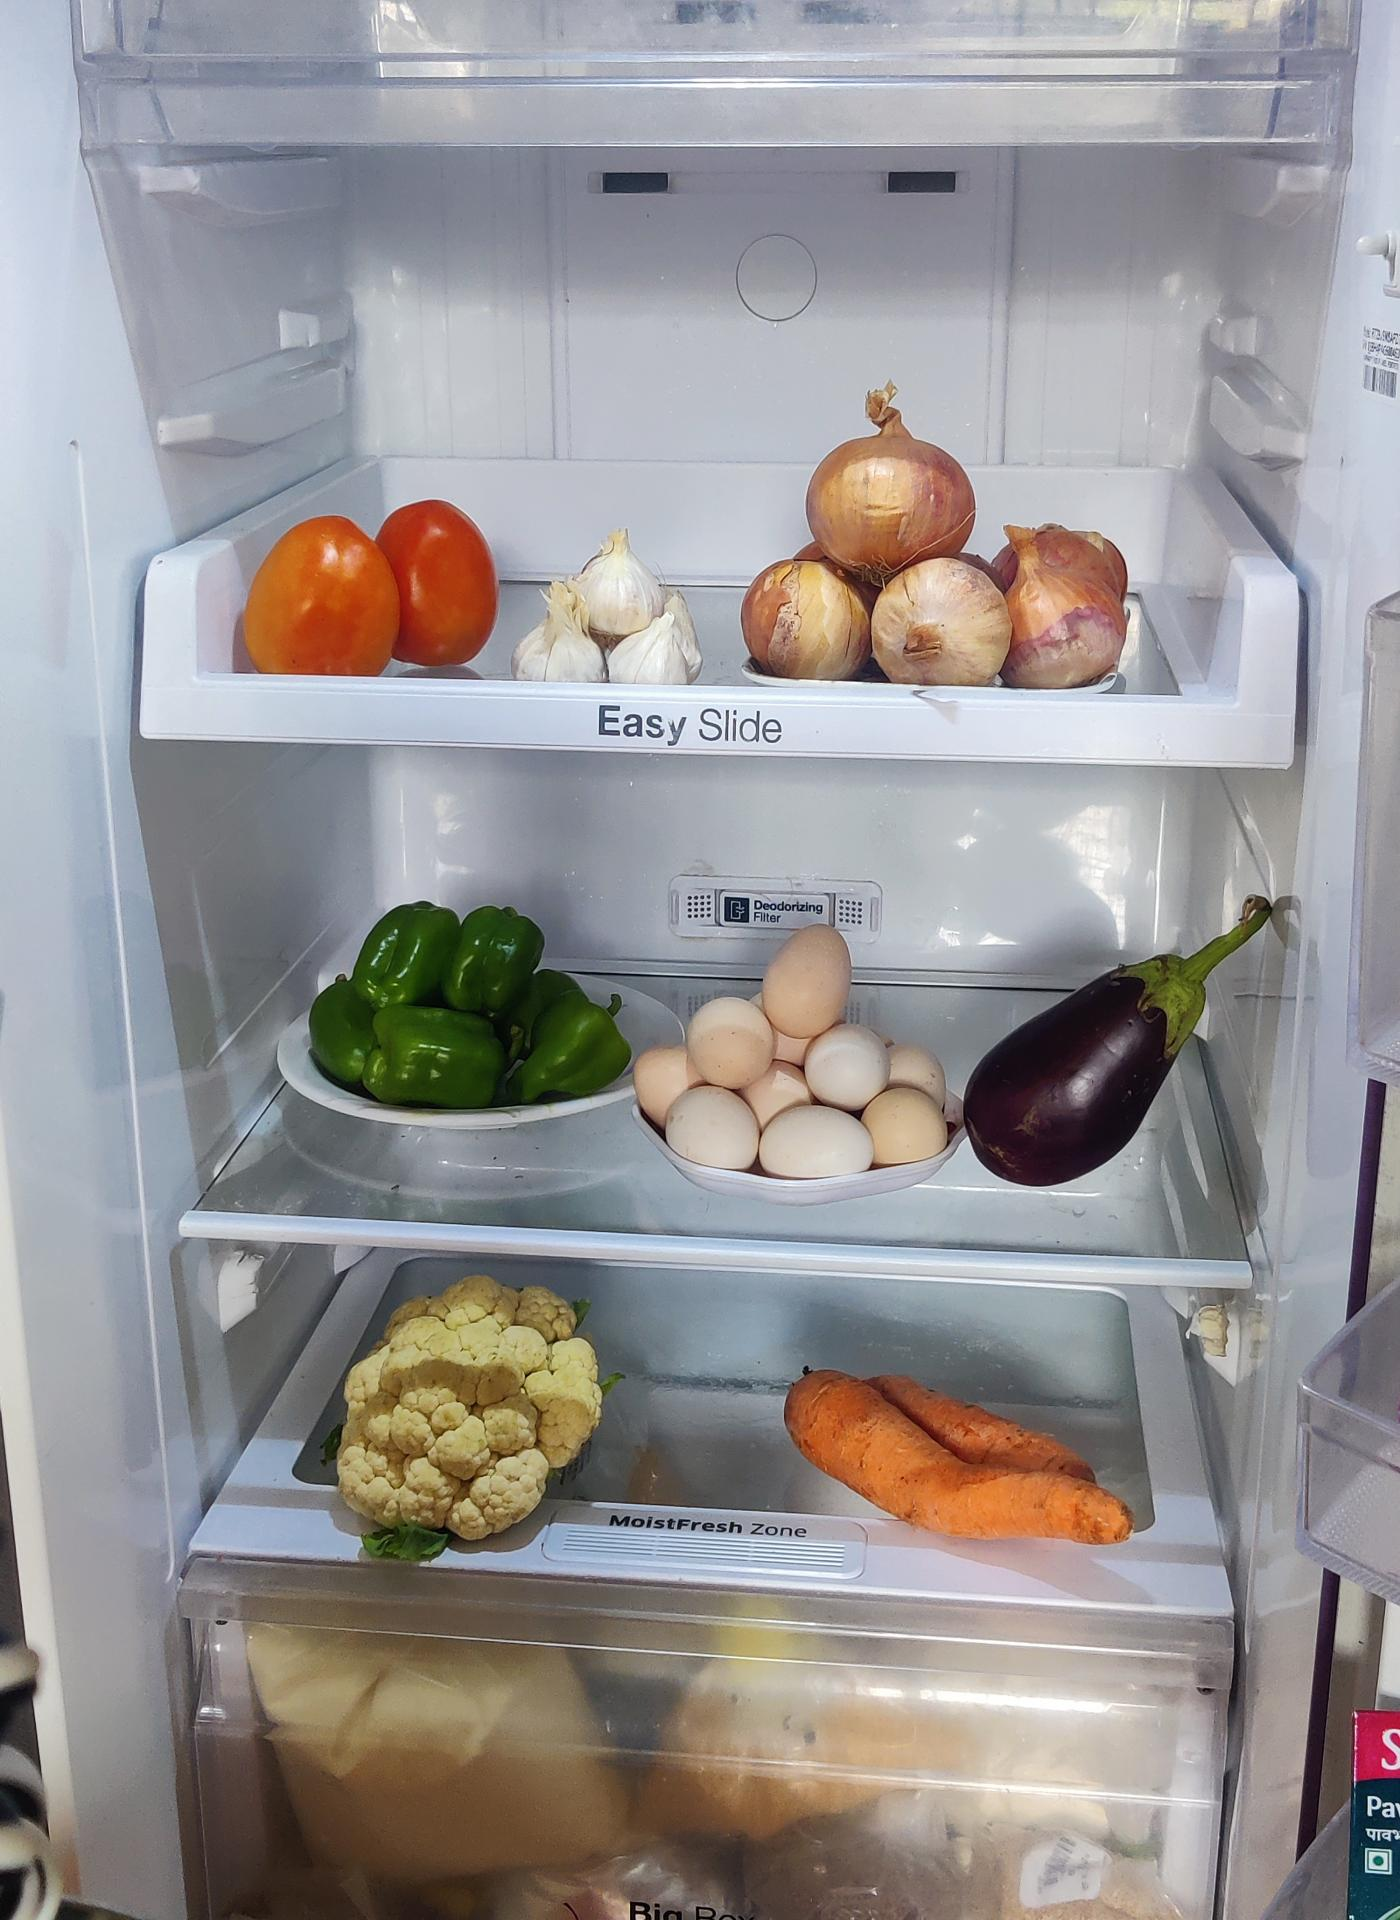brinjal: (963, 927, 1194, 1175)
capsicum: (307, 899, 631, 1111)
carrots: (778, 1367, 1138, 1550)
cauliflower: (337, 1283, 608, 1544)
egg: (632, 936, 948, 1196)
garlic: (513, 528, 704, 689)
onion: (737, 529, 1129, 692)
tomato: (234, 498, 498, 680)
